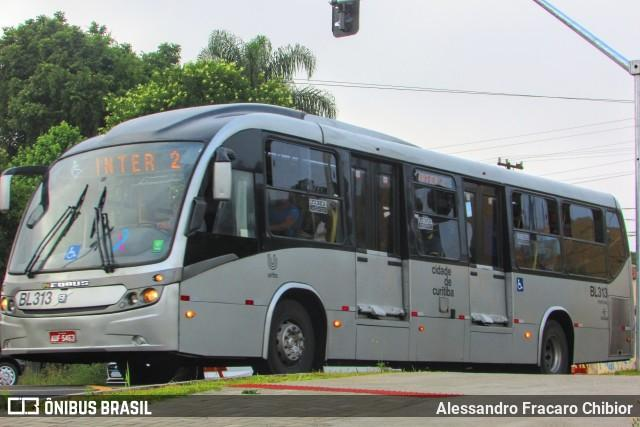INTER 2: (92, 148, 186, 179)
